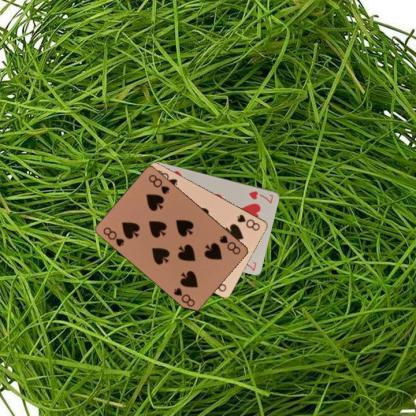7h: (246, 188, 275, 204)
8s: (100, 225, 126, 248), (217, 233, 242, 256), (235, 212, 261, 232)
